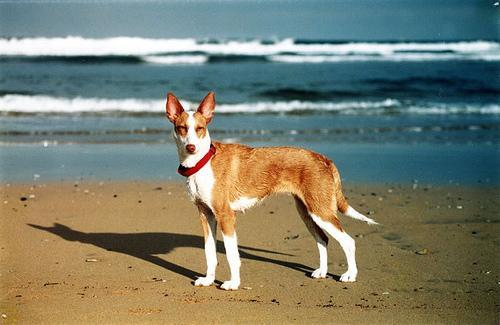Ibizan_hound: (162, 90, 379, 290)
